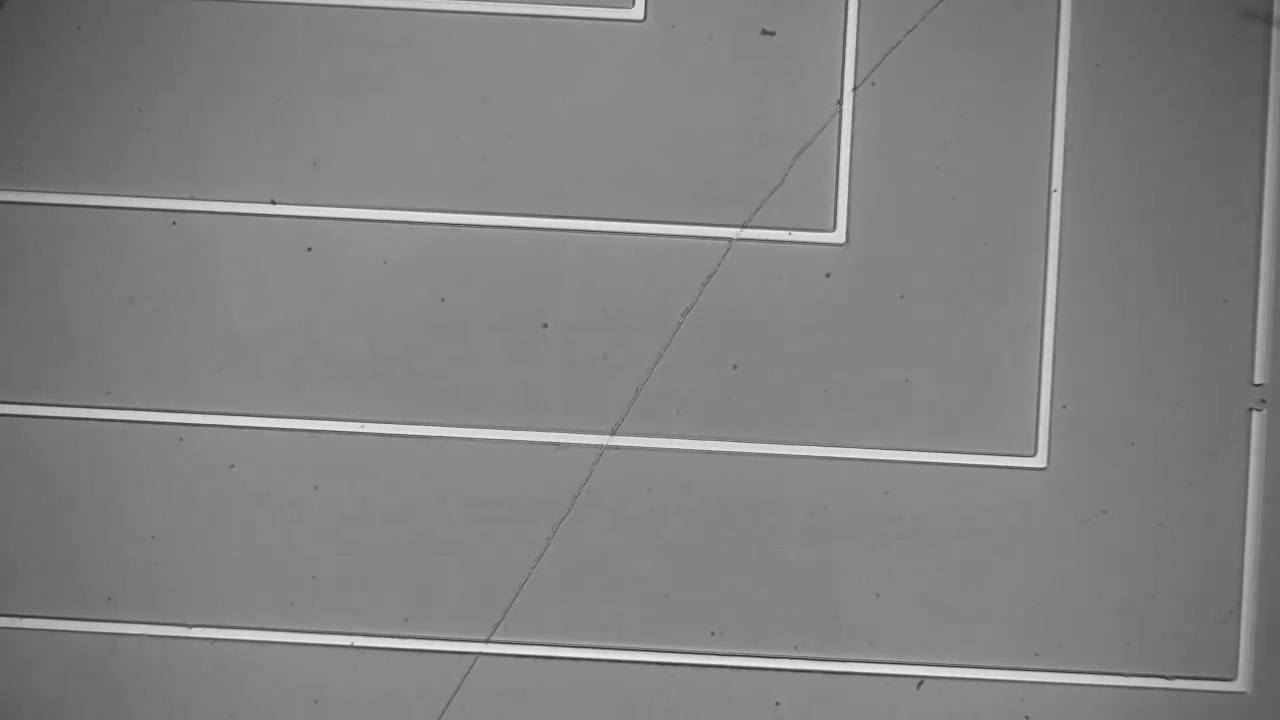open: (1228, 363, 1279, 434)
scratch: (432, 3, 937, 720)
